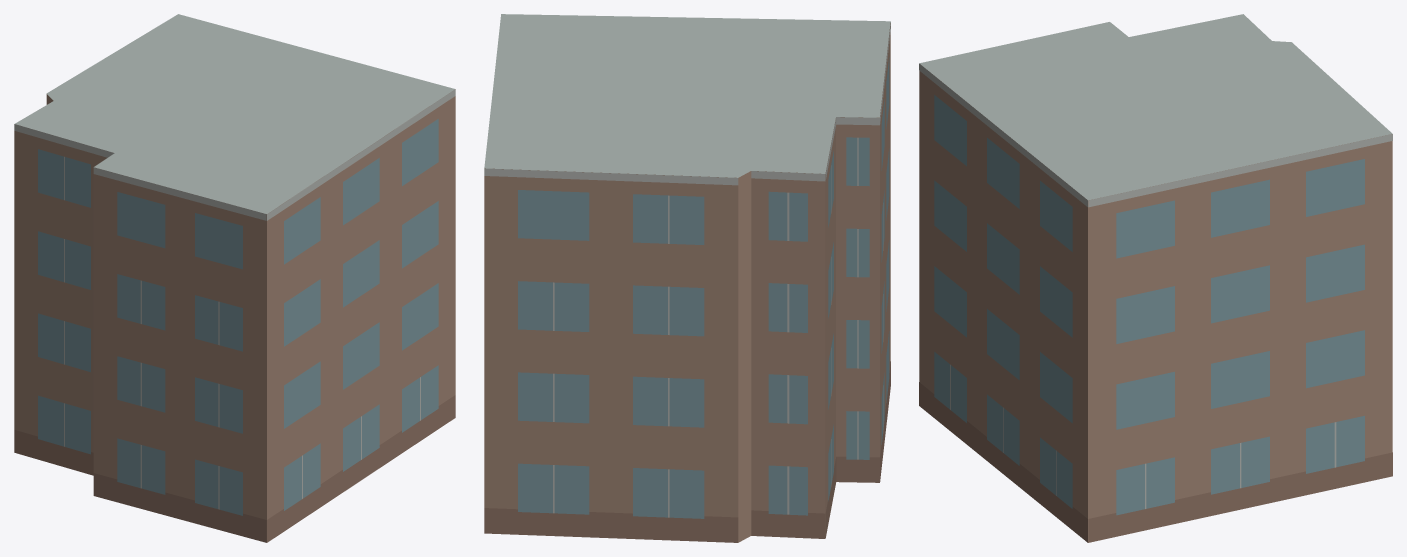
The model's file is survey-upis-32994835.glb.
The picture shows the model from 3 angles, left to right: view 1: azimuth 30°, elevation 25°; view 2: azimuth 150°, elevation 25°; view 3: azimuth 270°, elevation 25°; orthographic projection. The views are drawn at different scales.
Visible parts, largest first — view 1: survey-upis-32994835.tmp; view 2: survey-upis-32994835.tmp; view 3: survey-upis-32994835.tmp.
Part boxes in pixels (bbox=[...]): survey-upis-32994835.tmp: bbox=[14, 14, 455, 542]; survey-upis-32994835.tmp: bbox=[484, 14, 890, 542]; survey-upis-32994835.tmp: bbox=[919, 14, 1392, 542].
Bounding box in the file's own units: 13.78 × 11.8 × 14.8.
